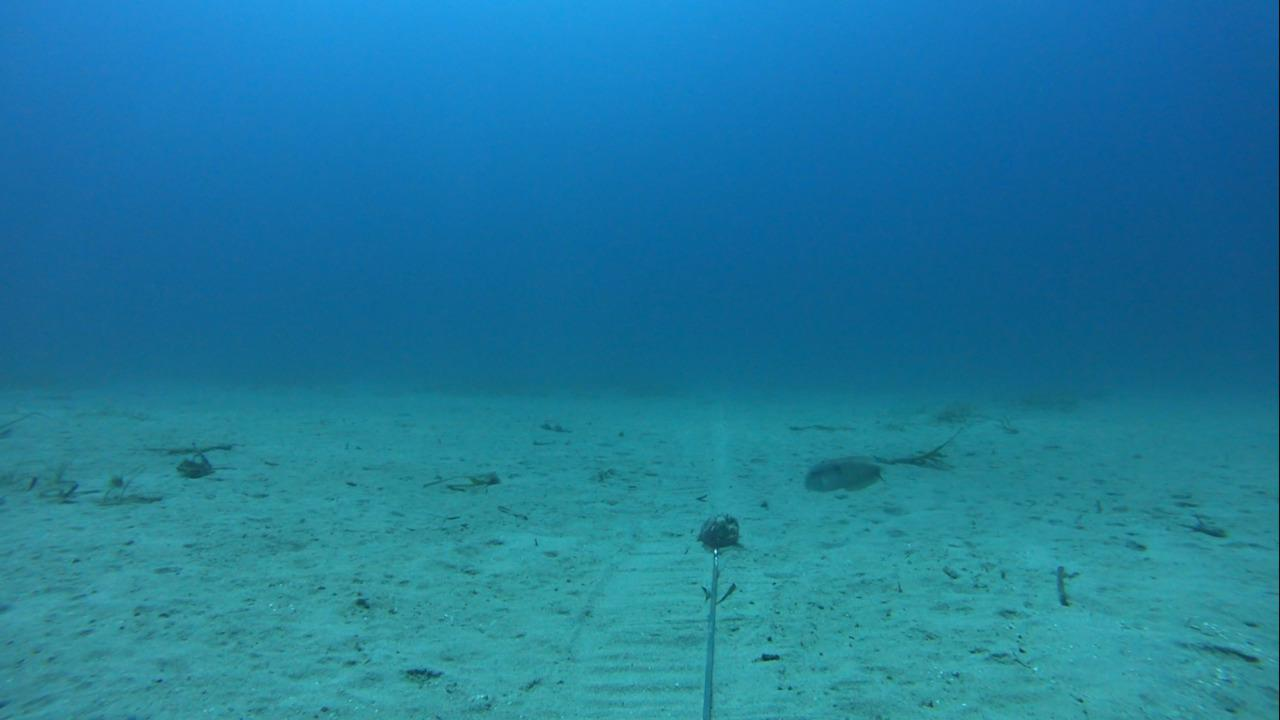raor: (797, 453, 895, 495)
